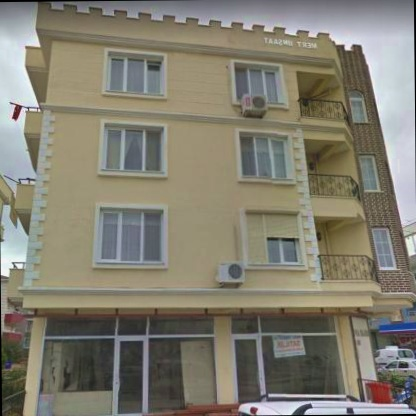door: (113, 336, 148, 416), (232, 335, 264, 403)
